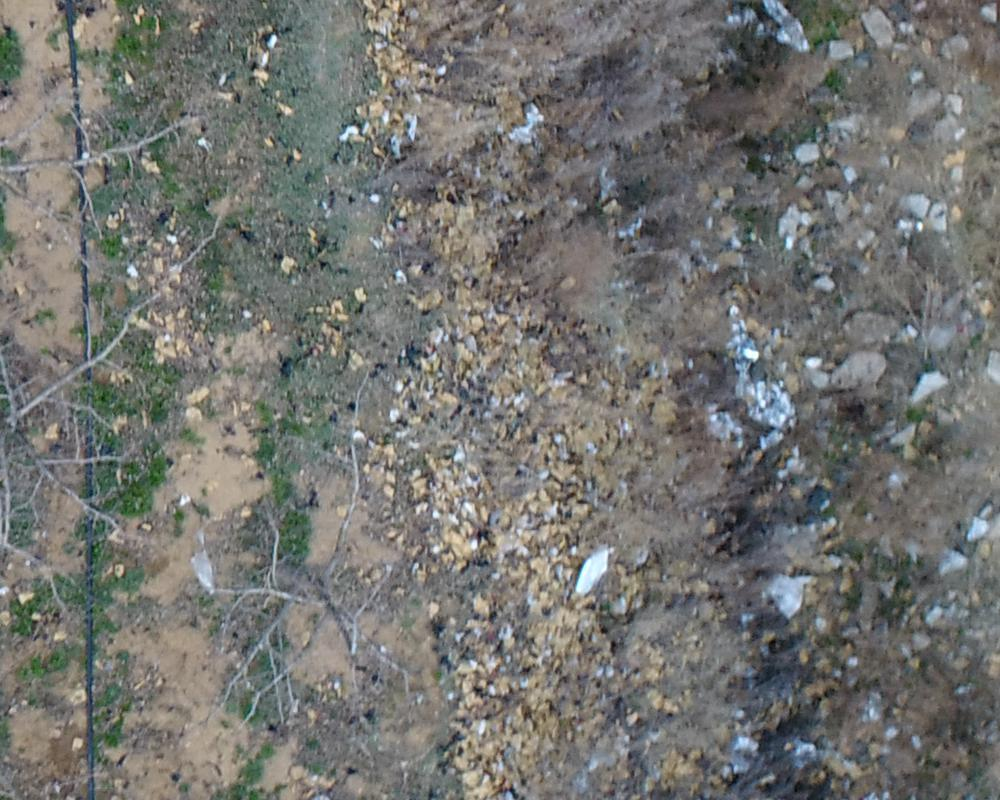apple: (188, 367, 435, 752), (10, 248, 213, 609), (10, 17, 229, 294)
